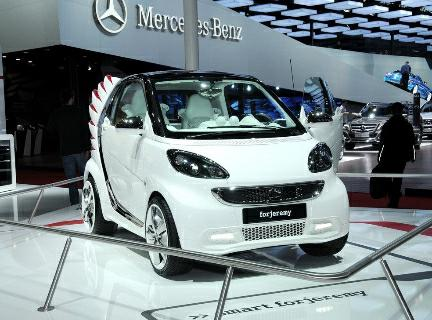smart-forjeremy: (88, 76, 347, 282)
